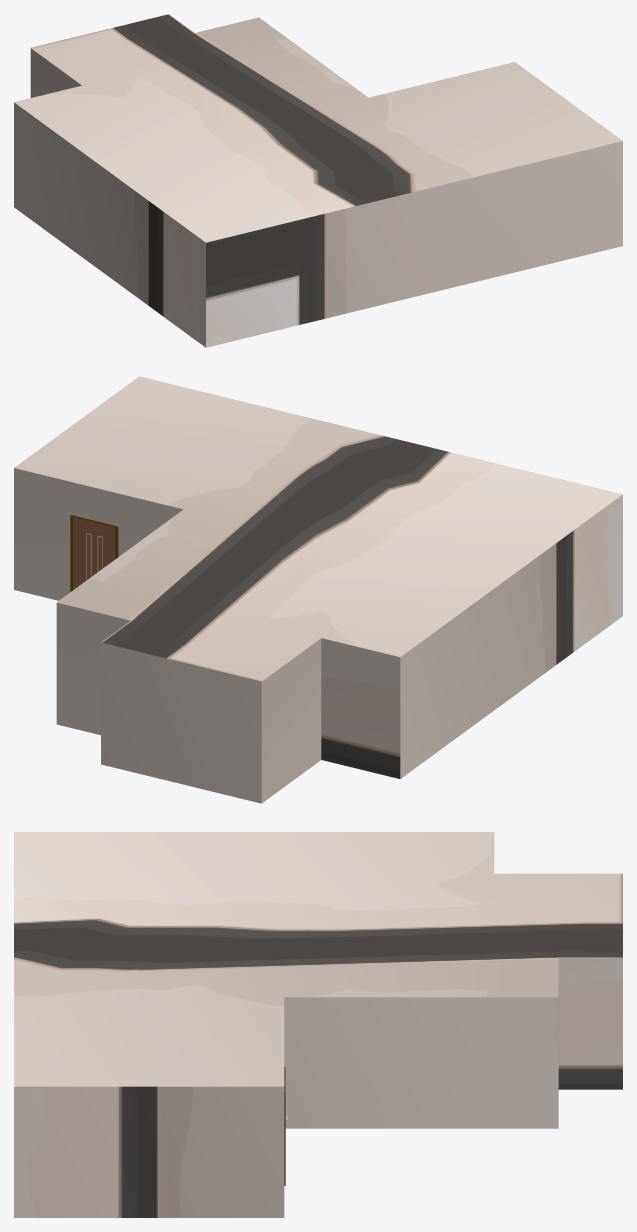
File: client work room (1).fbx
3 renders of one model, top to bottom at view 1: azimuth 30°, elevation 25°; view 2: azimuth 150°, elevation 25°; view 3: azimuth 270°, elevation 25°, orthographic. The views are drawn at different scales.
Parts seen in each view (by area): view 1: work room; view 2: work room; view 3: work room.
Part boxes in pixels (bbox=[...]): work room: bbox=[14, 14, 622, 347]; work room: bbox=[14, 376, 622, 803]; work room: bbox=[14, 832, 622, 1217].
Bounding box in the file's own units: 1324 × 319 × 1339.
5 materials, 5 textured.
